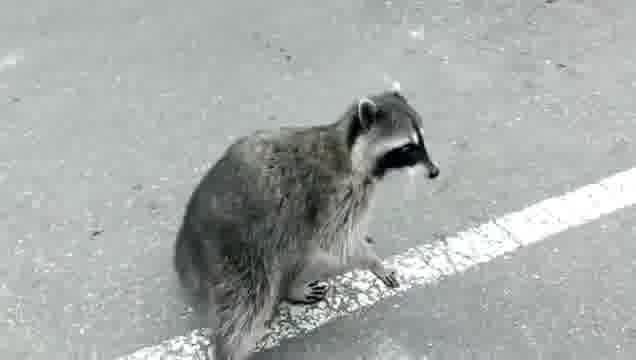raccoon: (174, 92, 440, 360)
